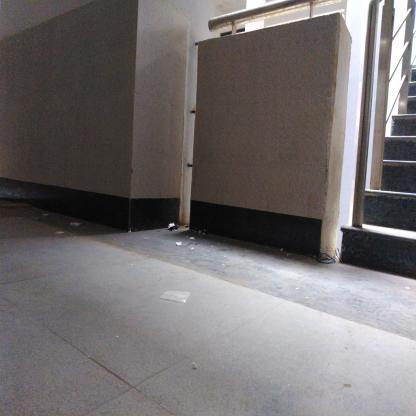stairs: (394, 112, 416, 292)
